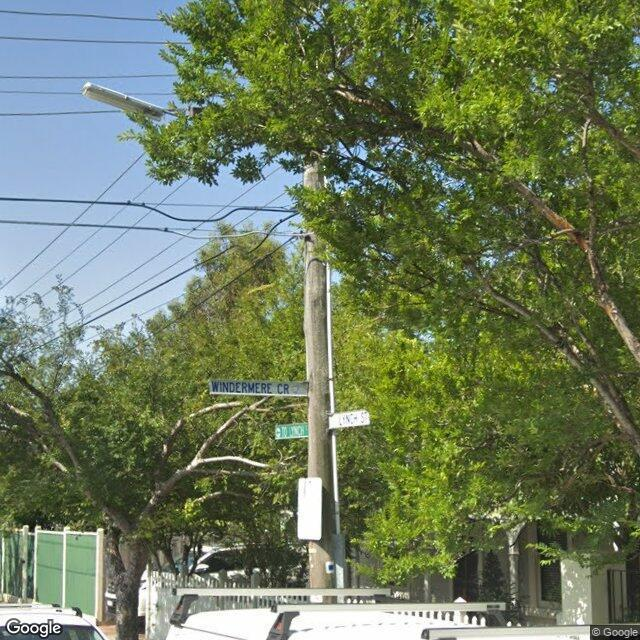streetlight: (81, 81, 180, 122)
timber-pole: (302, 129, 337, 603)
